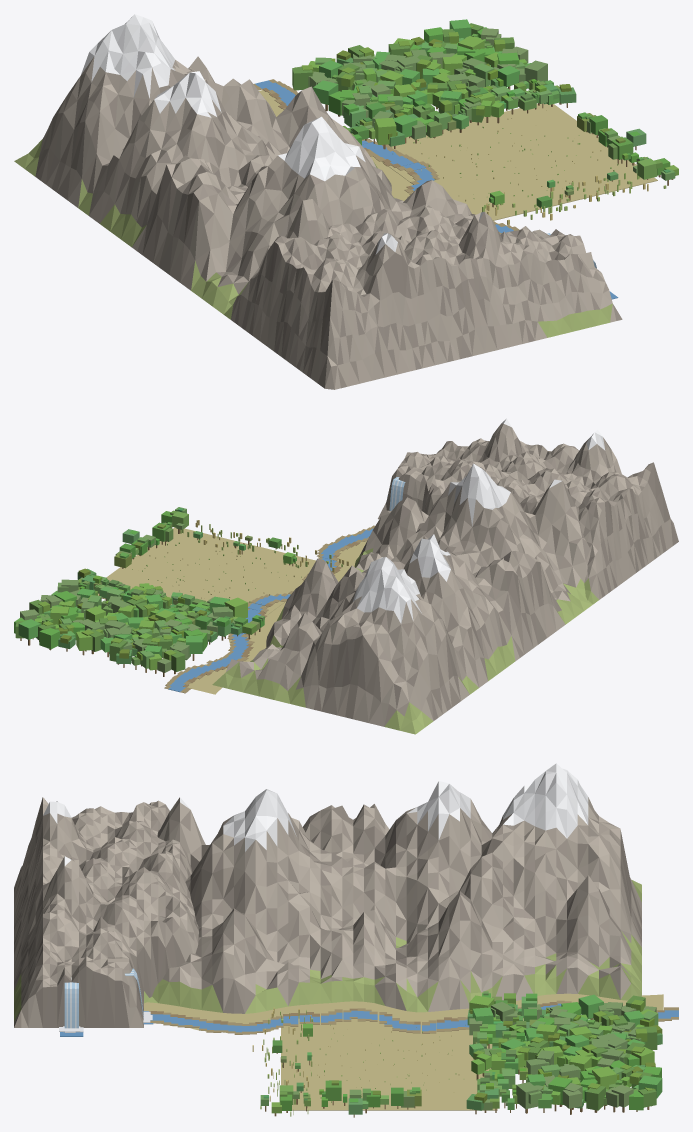
File: city_map.glb
3 renders of one model, top to bottom at view 1: azimuth 30°, elevation 25°; view 2: azimuth 150°, elevation 25°; view 3: azimuth 270°, elevation 25°, orthographic. The views are drawn at different scales.
Visible parts, largest first — view 1: Montana_Cascadas, Montana_Norte, Montana_Sur, Ground-col, Ground_West-col; view 2: Montana_Norte, Montana_Cascadas, Montana_Sur, Ground-col, Ground_West-col; view 3: Montana_Norte, Montana_Cascadas, Montana_Sur, Ground-col, Ground_West-col, Cascada_Gym.
Part boxes in pixels (x1=…): Montana_Cascadas: x1=223, y1=205, x2=622, y2=389; Montana_Norte: x1=14, y1=14, x2=391, y2=266; Montana_Sur: x1=158, y1=116, x2=471, y2=314; Ground-col: x1=382, y1=103, x2=657, y2=220; Ground_West-col: x1=259, y1=90, x2=498, y2=223; Montana_Norte: x1=212, y1=534, x2=537, y2=734; Montana_Cascadas: x1=378, y1=418, x2=678, y2=604; Montana_Sur: x1=354, y1=463, x2=592, y2=644; Ground-col: x1=98, y1=527, x2=315, y2=615; Ground_West-col: x1=187, y1=534, x2=366, y2=694; Montana_Norte: x1=353, y1=763, x2=641, y2=1012; Montana_Cascadas: x1=14, y1=797, x2=198, y2=1027; Montana_Sur: x1=147, y1=789, x2=353, y2=1013; Ground-col: x1=281, y1=1018, x2=497, y2=1110; Ground_West-col: x1=144, y1=993, x2=663, y2=1032; Cascada_Gym: x1=59, y1=977, x2=83, y2=1032.
Size of what is drawn, in the model's own units: 155 by 49.12 by 184.
